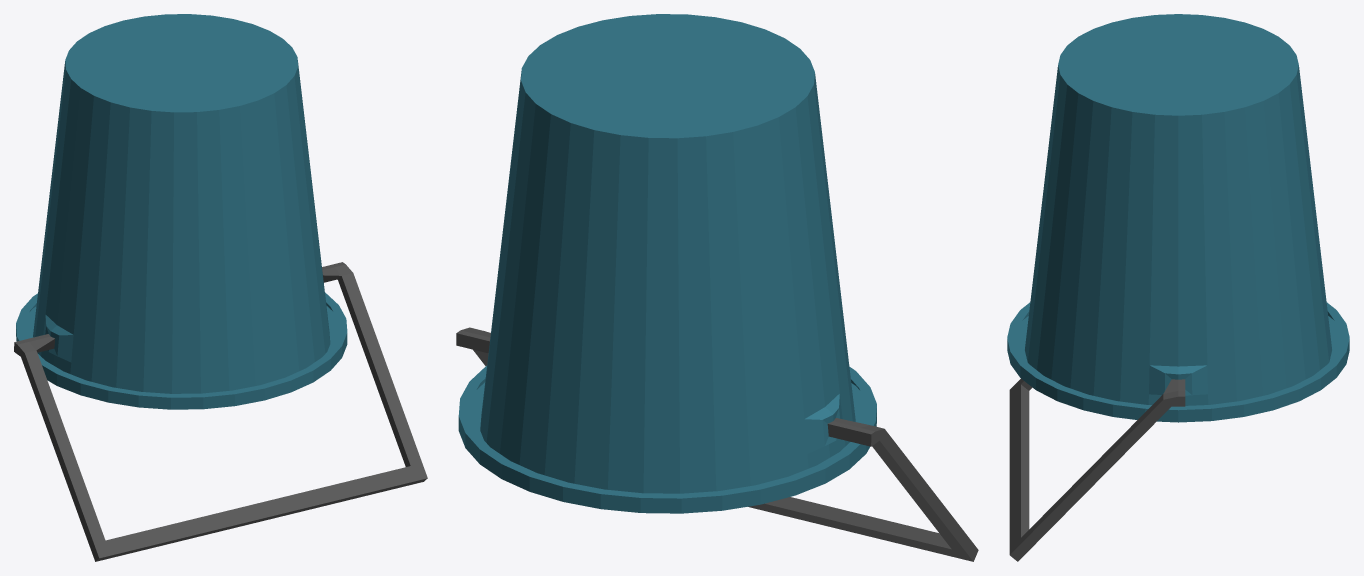
File: Bucket.fbx
3 renders of one model, left to right at view 1: azimuth 30°, elevation 25°; view 2: azimuth 150°, elevation 25°; view 3: azimuth 270°, elevation 25°, orthographic. The views are drawn at different scales.
Parts seen in each view (by area): view 1: Bucket; view 2: Bucket; view 3: Bucket.
Boxes of the visible parts, x1,y1,x2,y2 form: Bucket: (14, 14, 427, 561); Bucket: (456, 14, 978, 561); Bucket: (1007, 14, 1349, 561).
Bounding box in the file's own units: 74.47 × 87 × 65.19.
